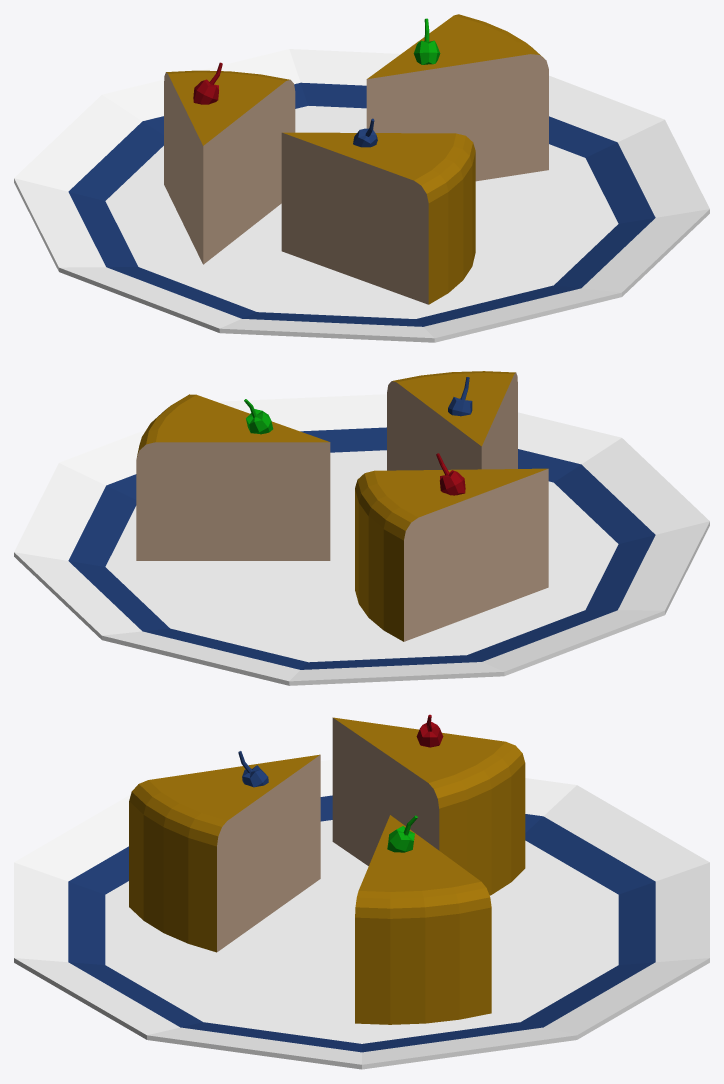
Rendered from cake2.glb.
The picture shows the model from 3 angles, top to bottom: view 1: azimuth 30°, elevation 25°; view 2: azimuth 150°, elevation 25°; view 3: azimuth 270°, elevation 25°; orthographic projection. The views are drawn at different scales.
Visible parts, largest first — view 1: SM_cake_yecan_blue_0; view 2: SM_cake_yecan_blue_0; view 3: SM_cake_yecan_blue_0.
Boxes of the visible parts, x1=… form: SM_cake_yecan_blue_0: x1=14, y1=14, x2=709, y2=342; SM_cake_yecan_blue_0: x1=14, y1=371, x2=709, y2=685; SM_cake_yecan_blue_0: x1=14, y1=714, x2=709, y2=1069.
Bounding box in the file's own units: 155 × 38.31 × 148.
6 materials, 6 textured.
